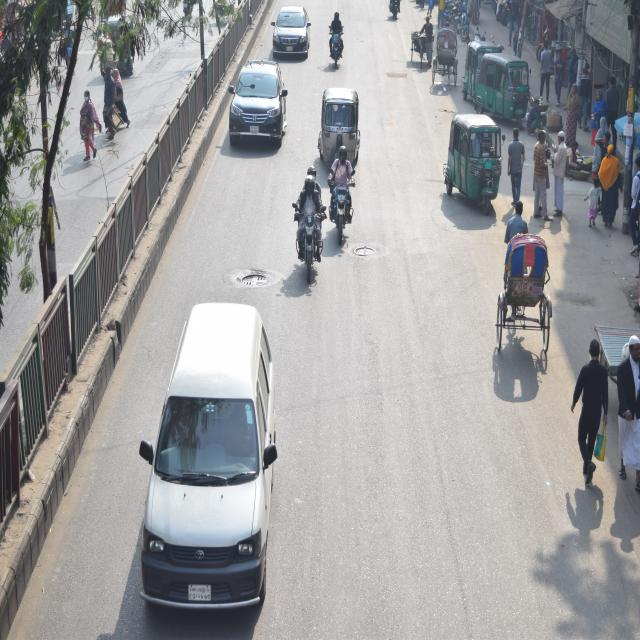car: (224, 57, 286, 159), (272, 0, 312, 59)
microbus: (141, 294, 284, 608)
motorbike: (292, 183, 322, 298), (330, 168, 350, 248), (330, 12, 343, 74)
